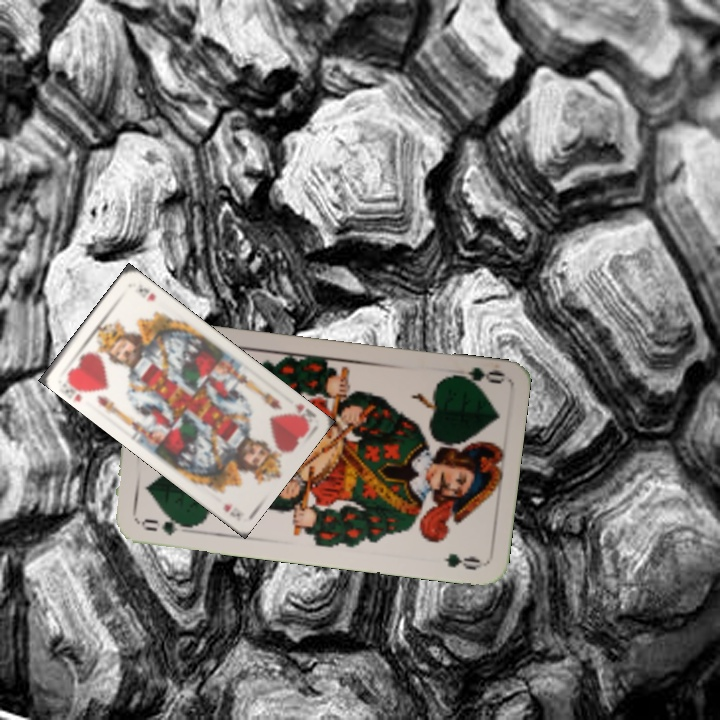GO: (445, 362, 505, 391), (137, 512, 195, 538)
HK: (63, 373, 89, 404), (290, 400, 318, 420)
